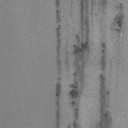slag inclusion: (64, 0, 108, 106), (96, 73, 114, 128), (55, 0, 62, 128), (110, 3, 125, 34), (100, 41, 106, 71), (73, 108, 78, 121), (72, 120, 78, 128)
